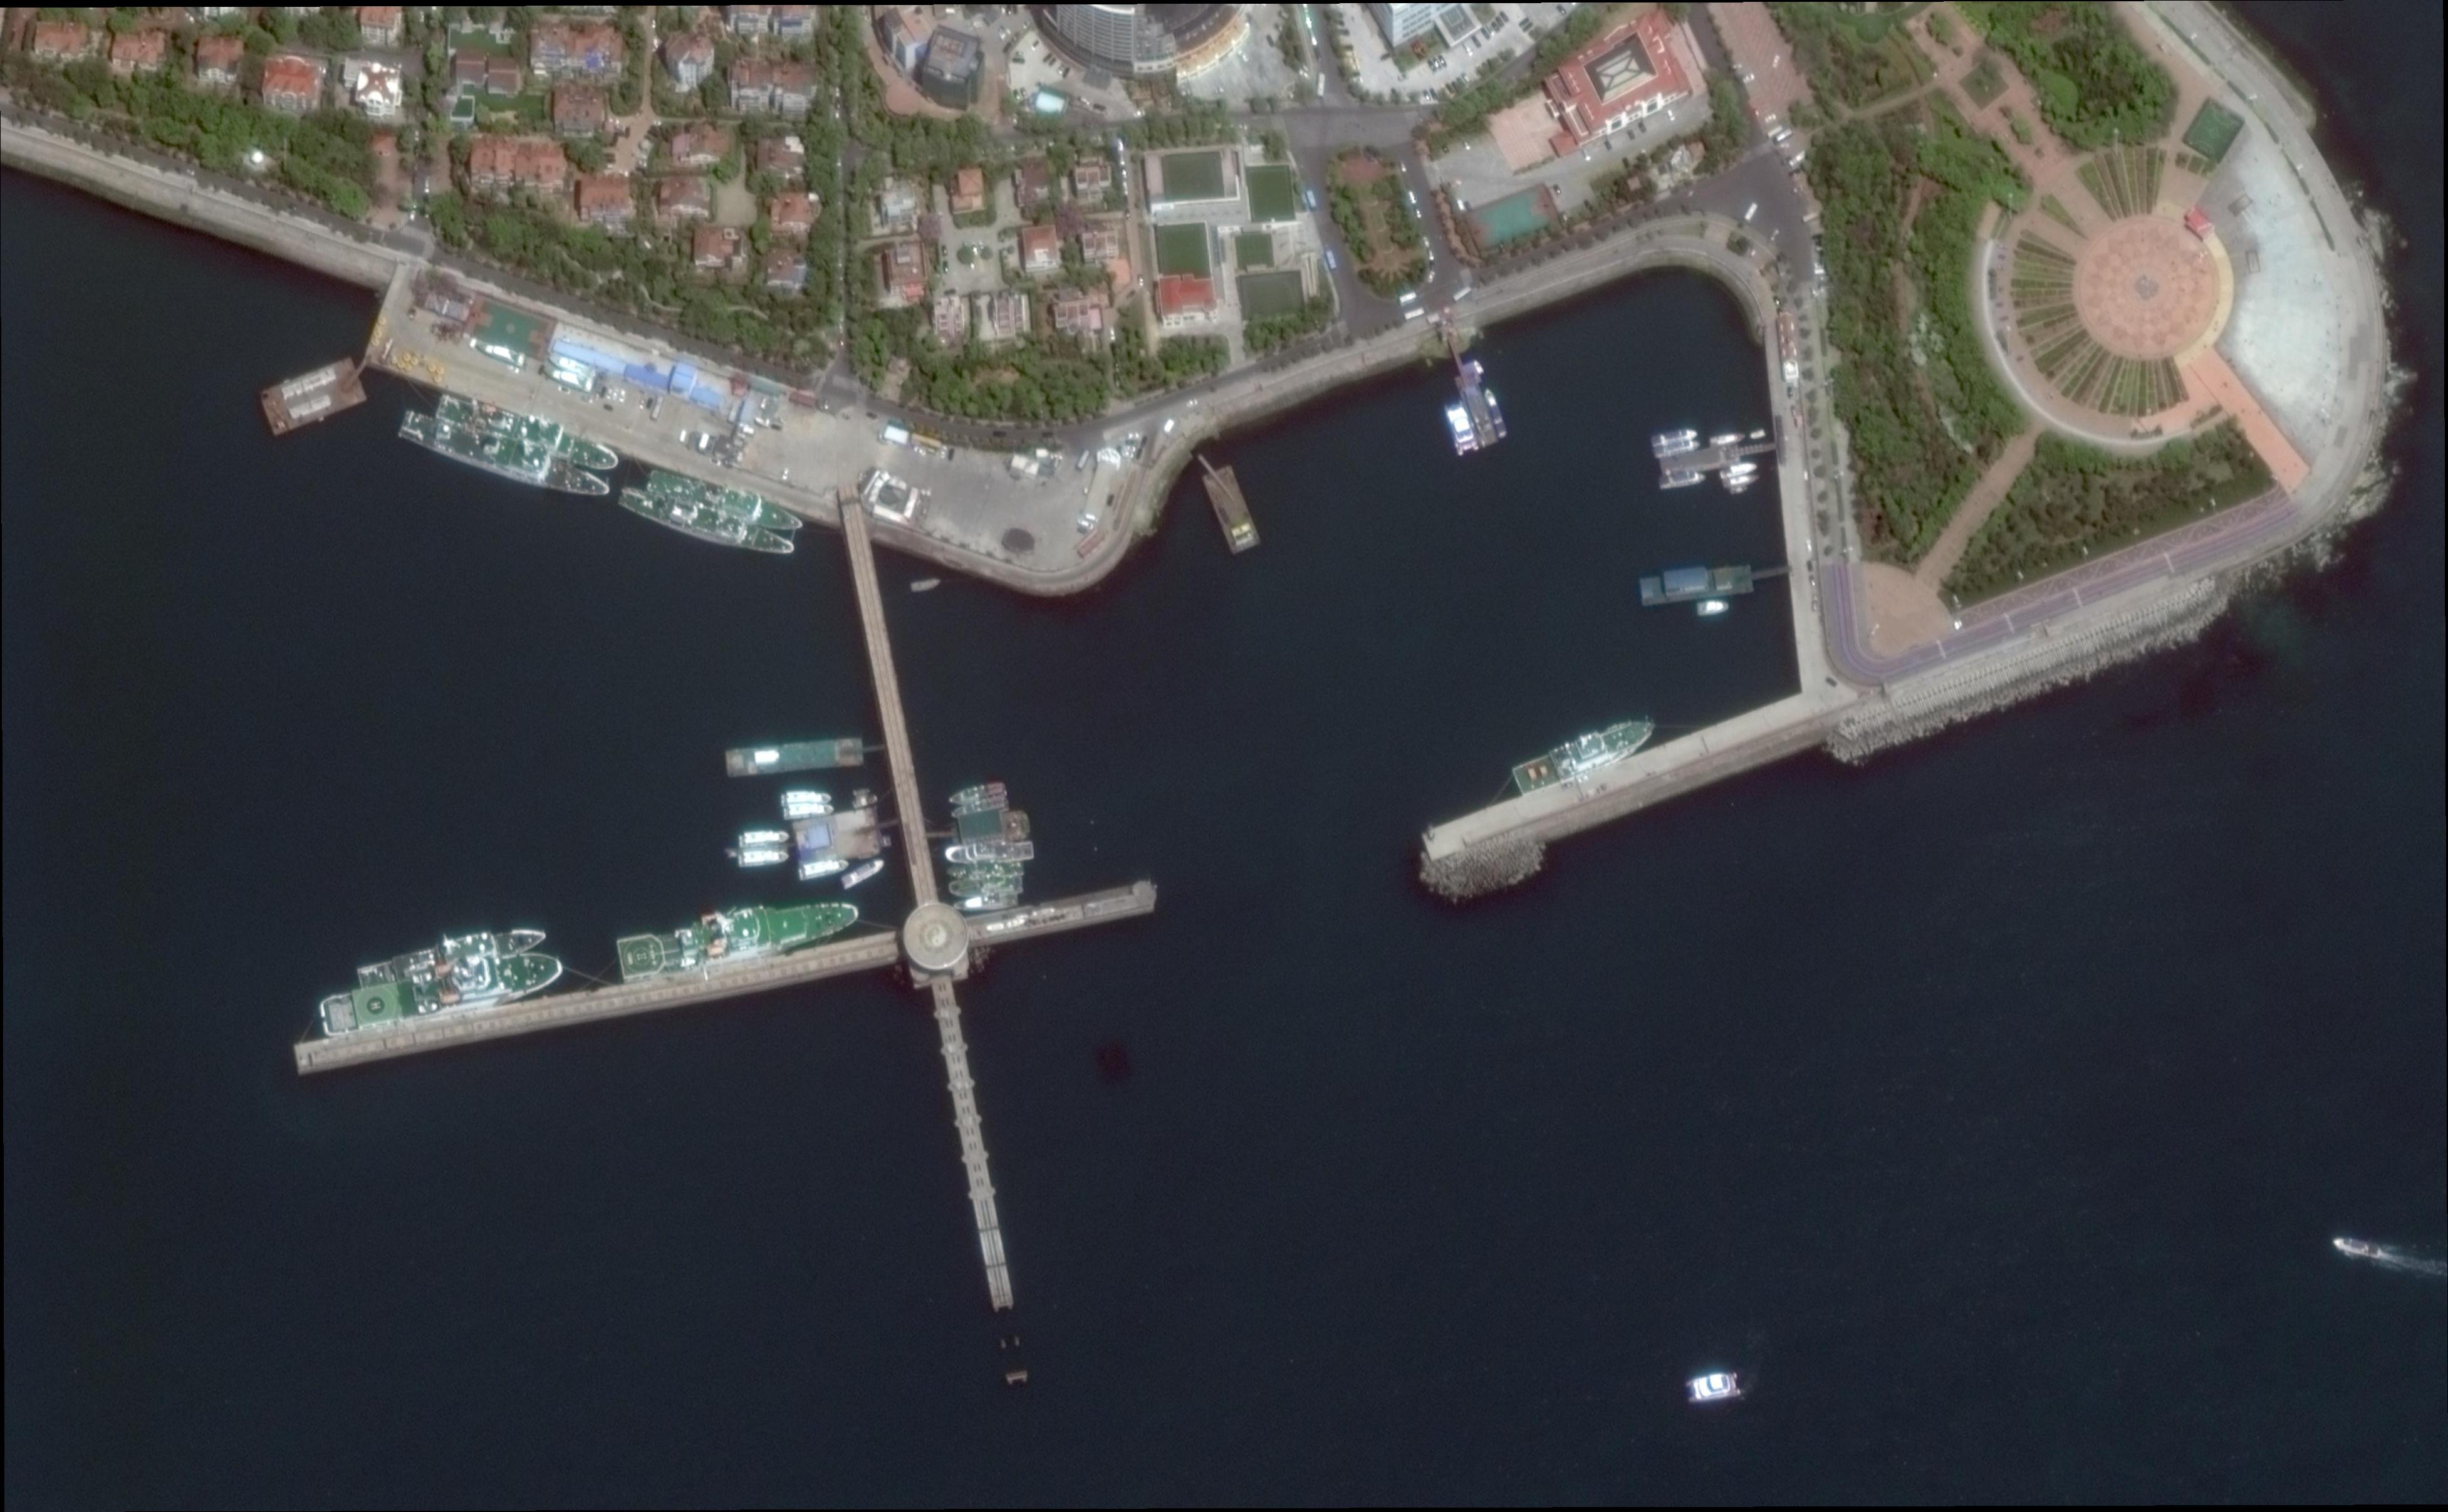harbor: (292, 930, 902, 1077), (1422, 692, 1810, 862), (841, 523, 939, 911), (930, 981, 1014, 1309), (969, 881, 1158, 947), (1441, 329, 1502, 449), (1656, 440, 1778, 477)
ship: (615, 891, 862, 986), (320, 947, 567, 1038), (399, 407, 615, 507), (437, 390, 624, 479), (617, 482, 799, 563), (357, 923, 549, 988), (1511, 713, 1661, 795), (647, 467, 810, 542), (1201, 465, 1262, 556), (726, 738, 864, 778), (951, 804, 1033, 855), (1444, 400, 1479, 456), (1686, 1370, 1740, 1405), (944, 841, 1033, 862), (839, 857, 888, 890), (946, 876, 1021, 897), (547, 351, 600, 381), (946, 781, 1009, 806), (949, 795, 1009, 820), (476, 339, 526, 367), (547, 365, 595, 395), (1483, 386, 1509, 439), (953, 893, 1018, 914), (797, 857, 852, 881), (2331, 1234, 2380, 1260), (946, 862, 1025, 877), (1649, 428, 1698, 447), (1659, 472, 1707, 491), (1654, 439, 1701, 458), (740, 850, 789, 867), (1719, 460, 1757, 481), (783, 804, 834, 820), (738, 830, 789, 846), (1708, 432, 1745, 449), (1722, 472, 1759, 489), (782, 792, 832, 804), (1694, 600, 1729, 617), (911, 579, 942, 593), (1729, 484, 1749, 496), (1472, 358, 1485, 376)
